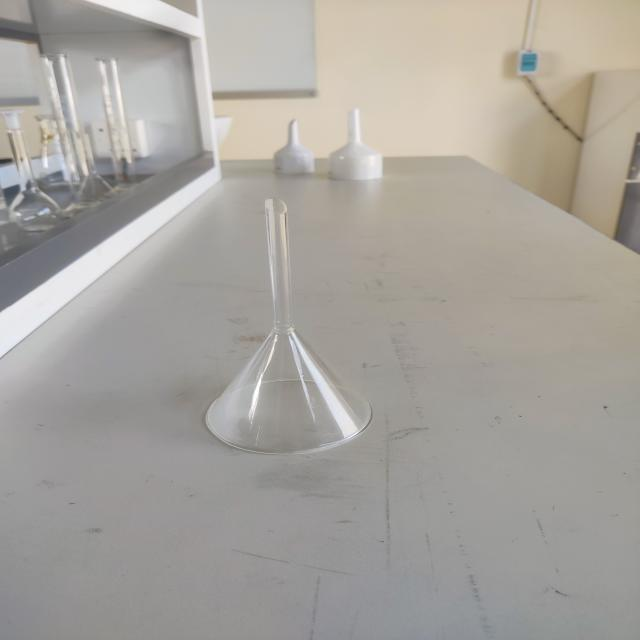Funnel: (173, 172, 422, 487)
